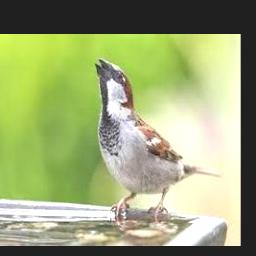Sparrow: (96, 58, 221, 221)
